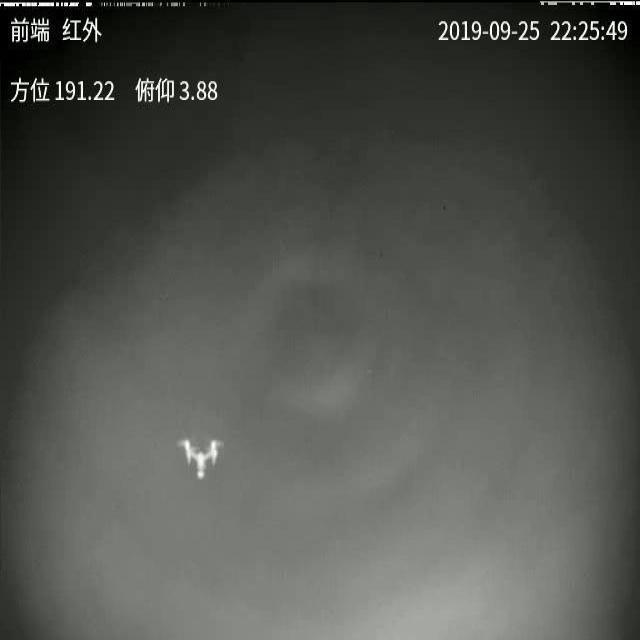drone: (179, 434, 226, 484)
